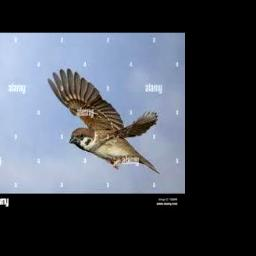Sparrow: (47, 69, 160, 175)
